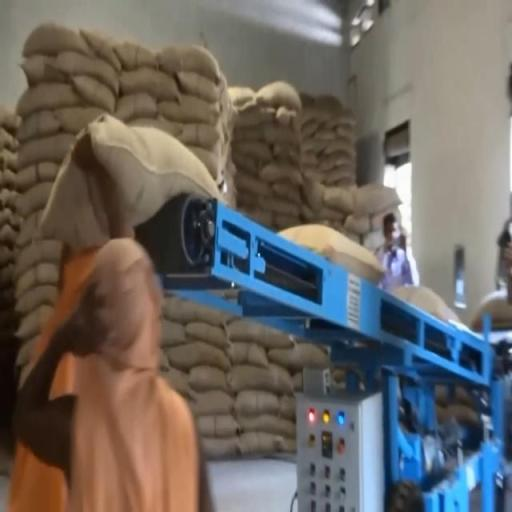c-belt-sack-count: (279, 224, 382, 283), (392, 286, 458, 321)
